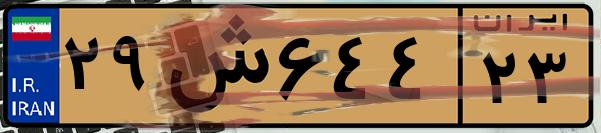2: (57, 26, 110, 100), (475, 38, 525, 113)
3: (525, 38, 570, 115)
4: (385, 28, 445, 110), (330, 28, 385, 110)
6: (270, 28, 330, 110)
9: (110, 28, 158, 98)
ش: (158, 12, 270, 120)
